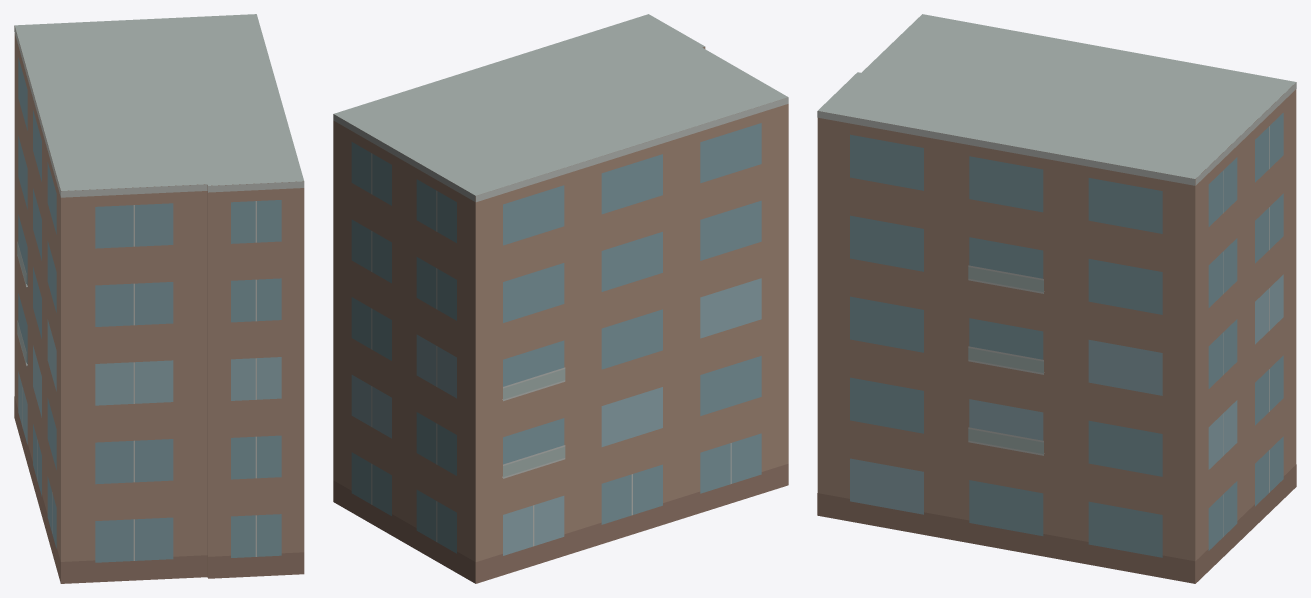
Rendered from survey-upis-32886566.glb.
3 renders of one model, left to right at view 1: azimuth 30°, elevation 25°; view 2: azimuth 150°, elevation 25°; view 3: azimuth 270°, elevation 25°, orthographic. The views are drawn at different scales.
Visible parts, largest first — view 1: survey-upis-32886566.tmp; view 2: survey-upis-32886566.tmp; view 3: survey-upis-32886566.tmp.
Part boxes in pixels (<box>): survey-upis-32886566.tmp: <box>14,14,304,583</box>; survey-upis-32886566.tmp: <box>333,14,788,583</box>; survey-upis-32886566.tmp: <box>817,14,1296,583</box>.
Size of the model in its own units: 12.69 by 14.5 by 15.56.
